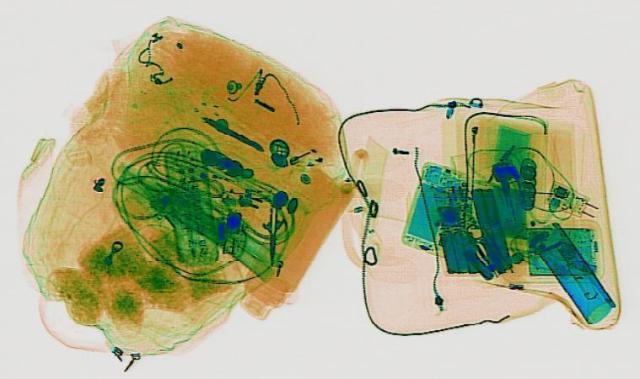Knife: (260, 200, 286, 264)
